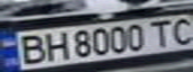0: (124, 20, 151, 52), (90, 25, 112, 56), (109, 22, 130, 54)
8: (69, 27, 93, 58)
B: (12, 32, 51, 65)
C: (166, 15, 193, 45)
H: (39, 29, 69, 62)
T: (145, 17, 178, 47)
